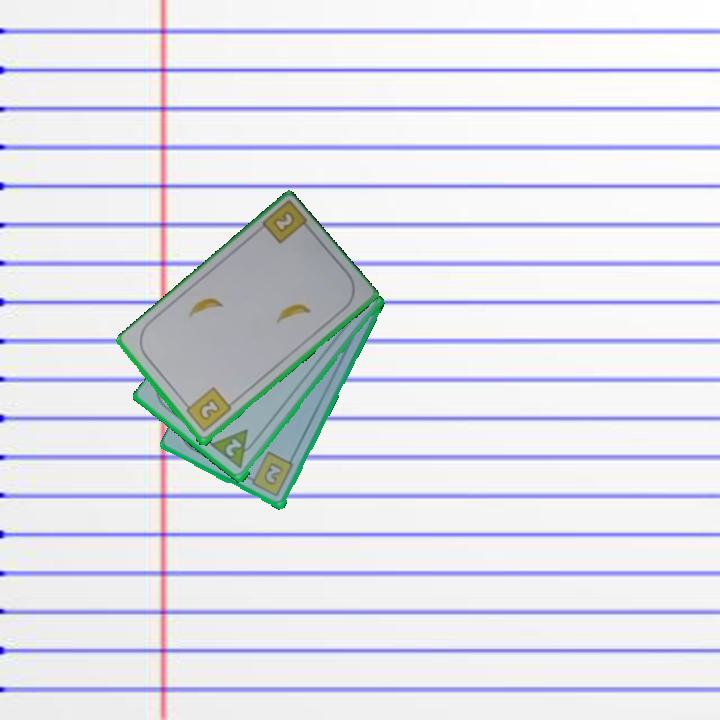2b: (180, 384, 234, 435), (244, 449, 296, 500), (269, 208, 298, 236)
2p: (208, 426, 261, 472)
